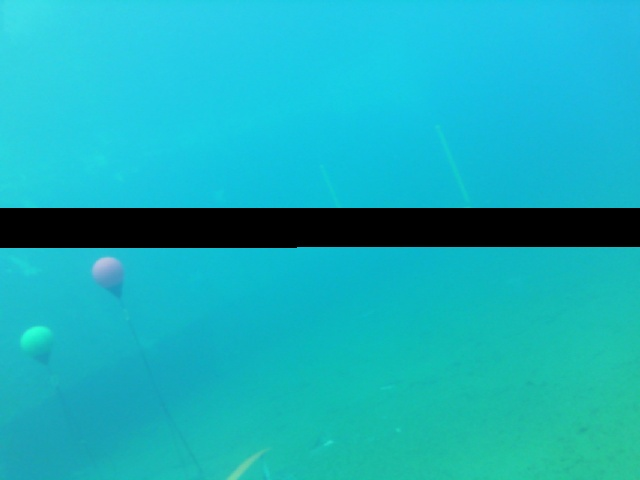buoy_green: (20, 324, 54, 366)
buoy_red: (90, 255, 125, 298)
